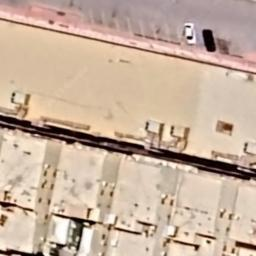sedan: (202, 29, 216, 52), (184, 22, 196, 45)
